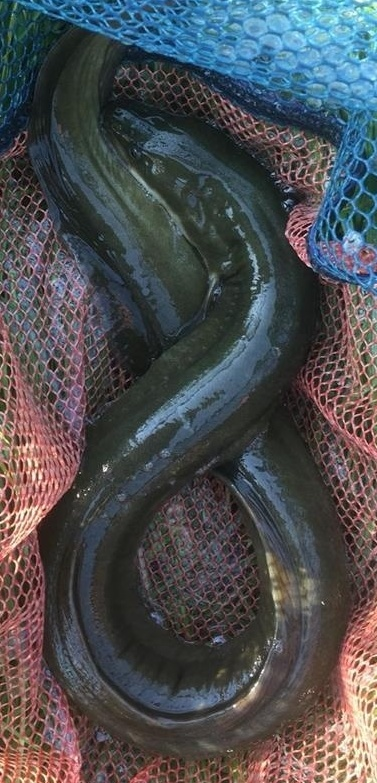Anguilla anguilla: (20, 20, 357, 763)
